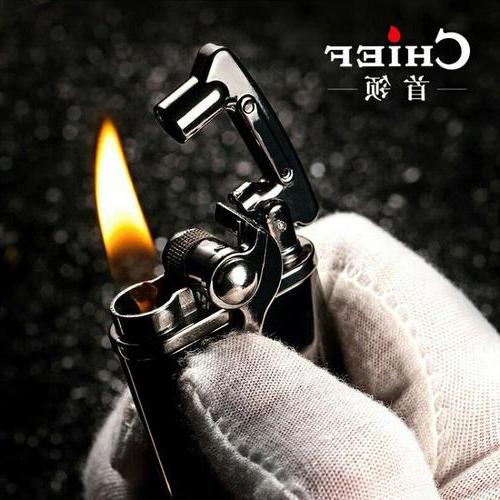fire: (79, 106, 173, 292)
